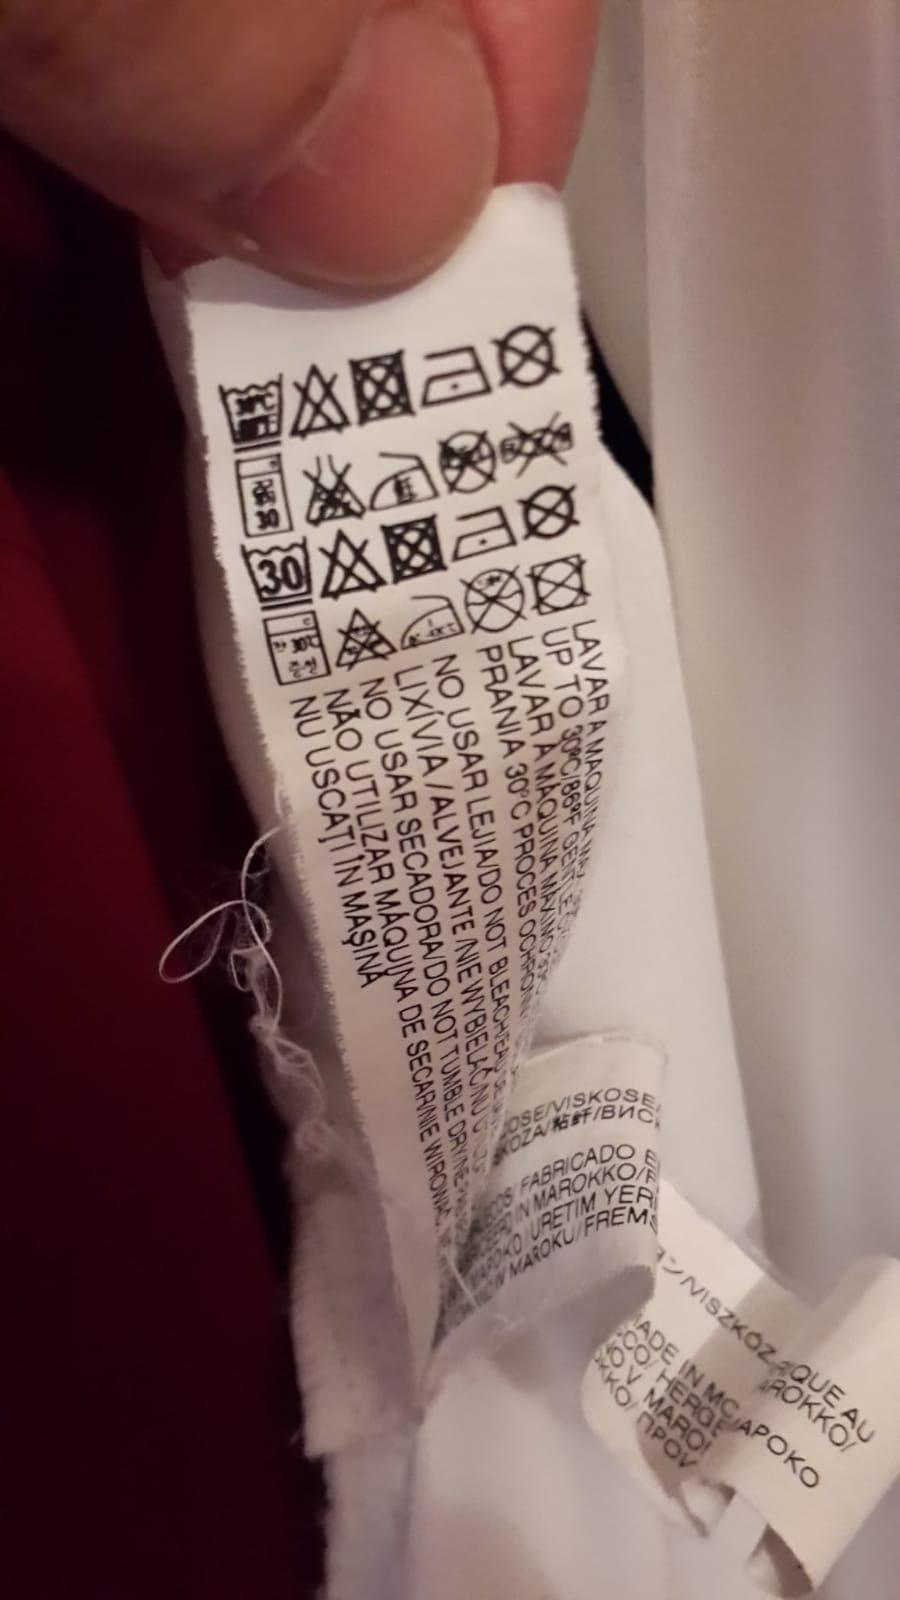30C: (236, 450, 299, 540), (222, 364, 287, 447), (250, 533, 312, 611), (268, 606, 326, 689)
DN_bleach: (290, 352, 353, 438), (339, 593, 399, 672), (322, 527, 383, 603)
DN_dry_clean: (462, 563, 531, 643), (495, 318, 557, 394), (518, 478, 582, 543), (440, 428, 497, 494)
DN_tumble_dry: (531, 547, 600, 620), (353, 342, 411, 425), (389, 503, 439, 591)
DN_wring: (500, 409, 577, 475)
iron: (369, 441, 438, 511)
iron_low: (420, 332, 495, 407), (449, 499, 518, 565), (396, 589, 466, 652)
